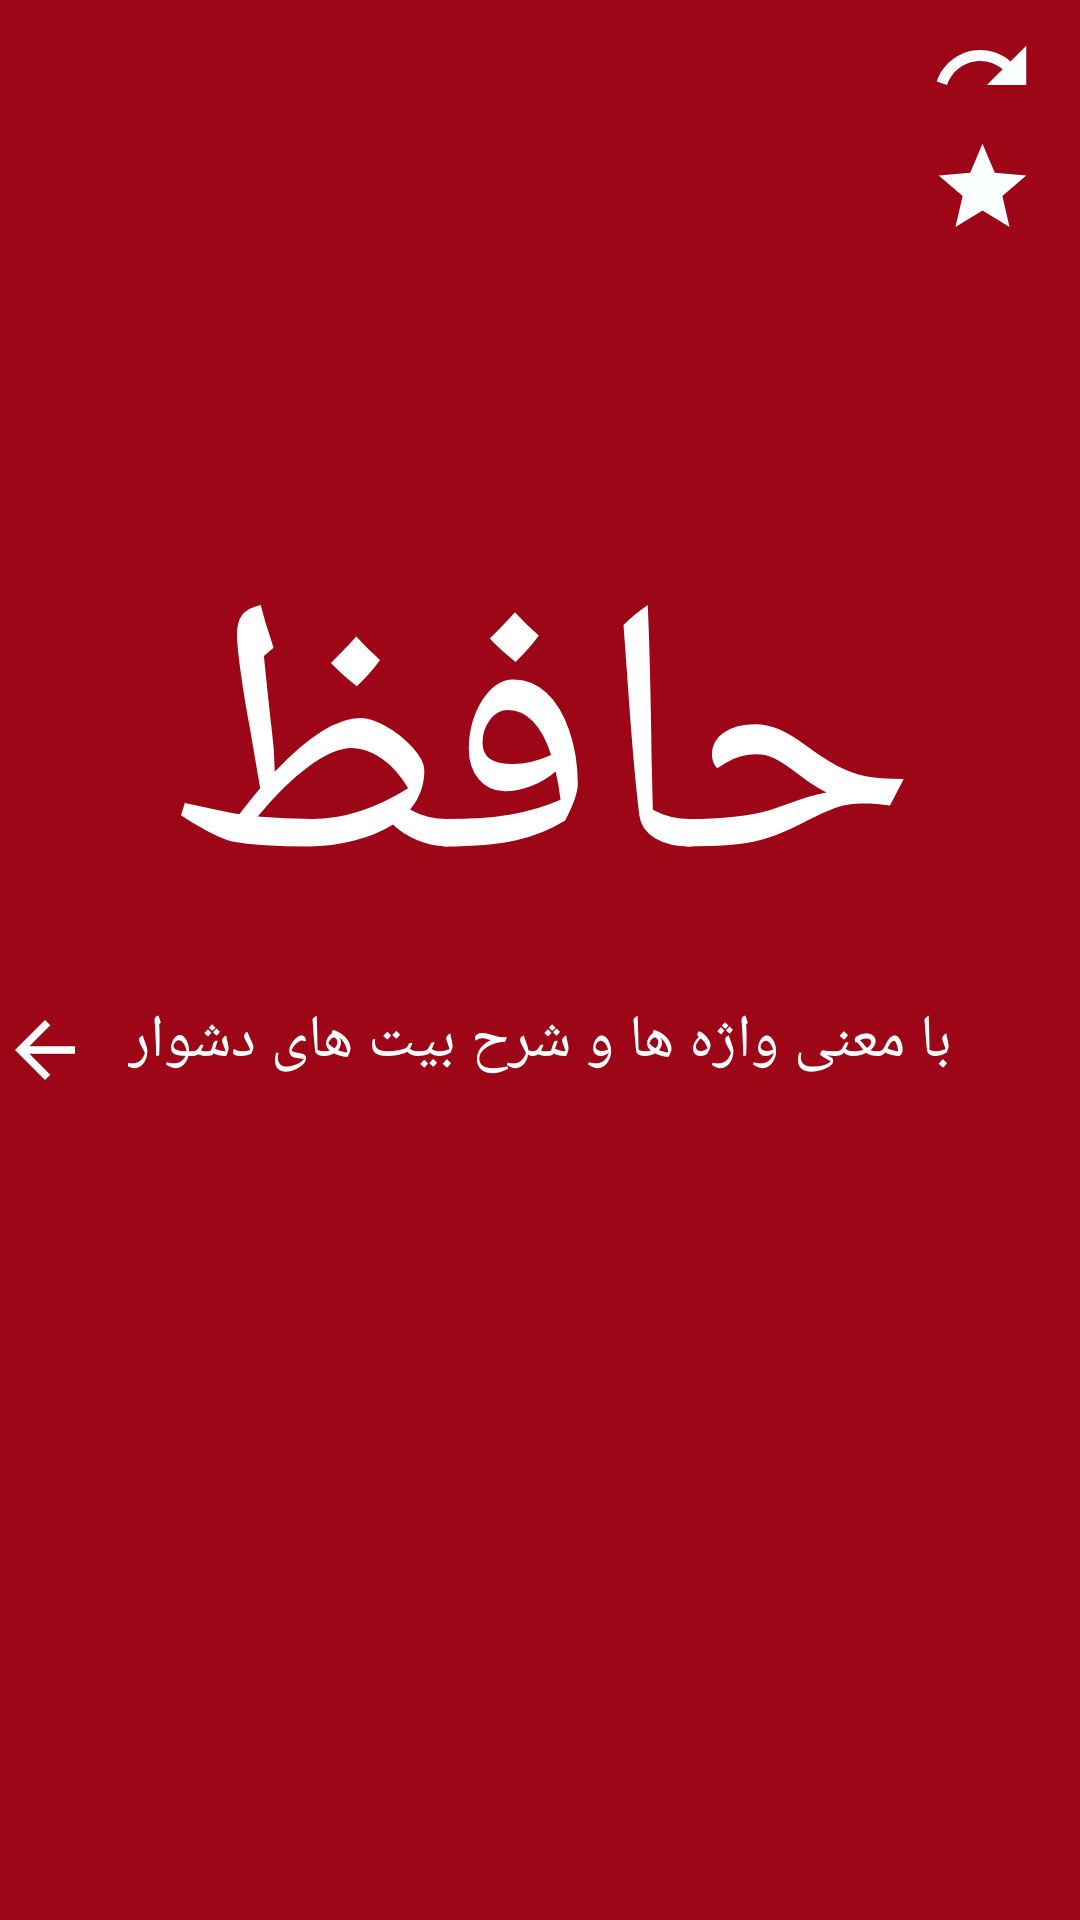

Where icons sit on this 1080px x 1920px app screen, as [x1,y1,x2,y2]:
redo: [936,46,1027,85]
star: [939,144,1026,227]
